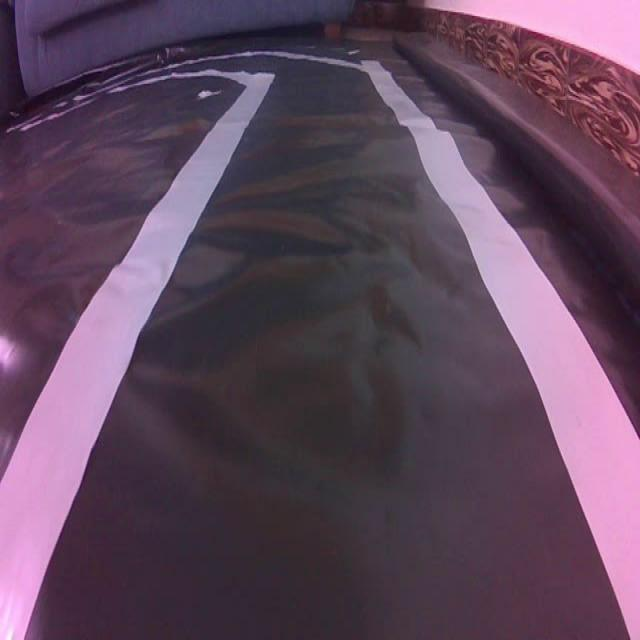LineaCarril: (362, 62, 640, 638), (0, 72, 274, 638)
